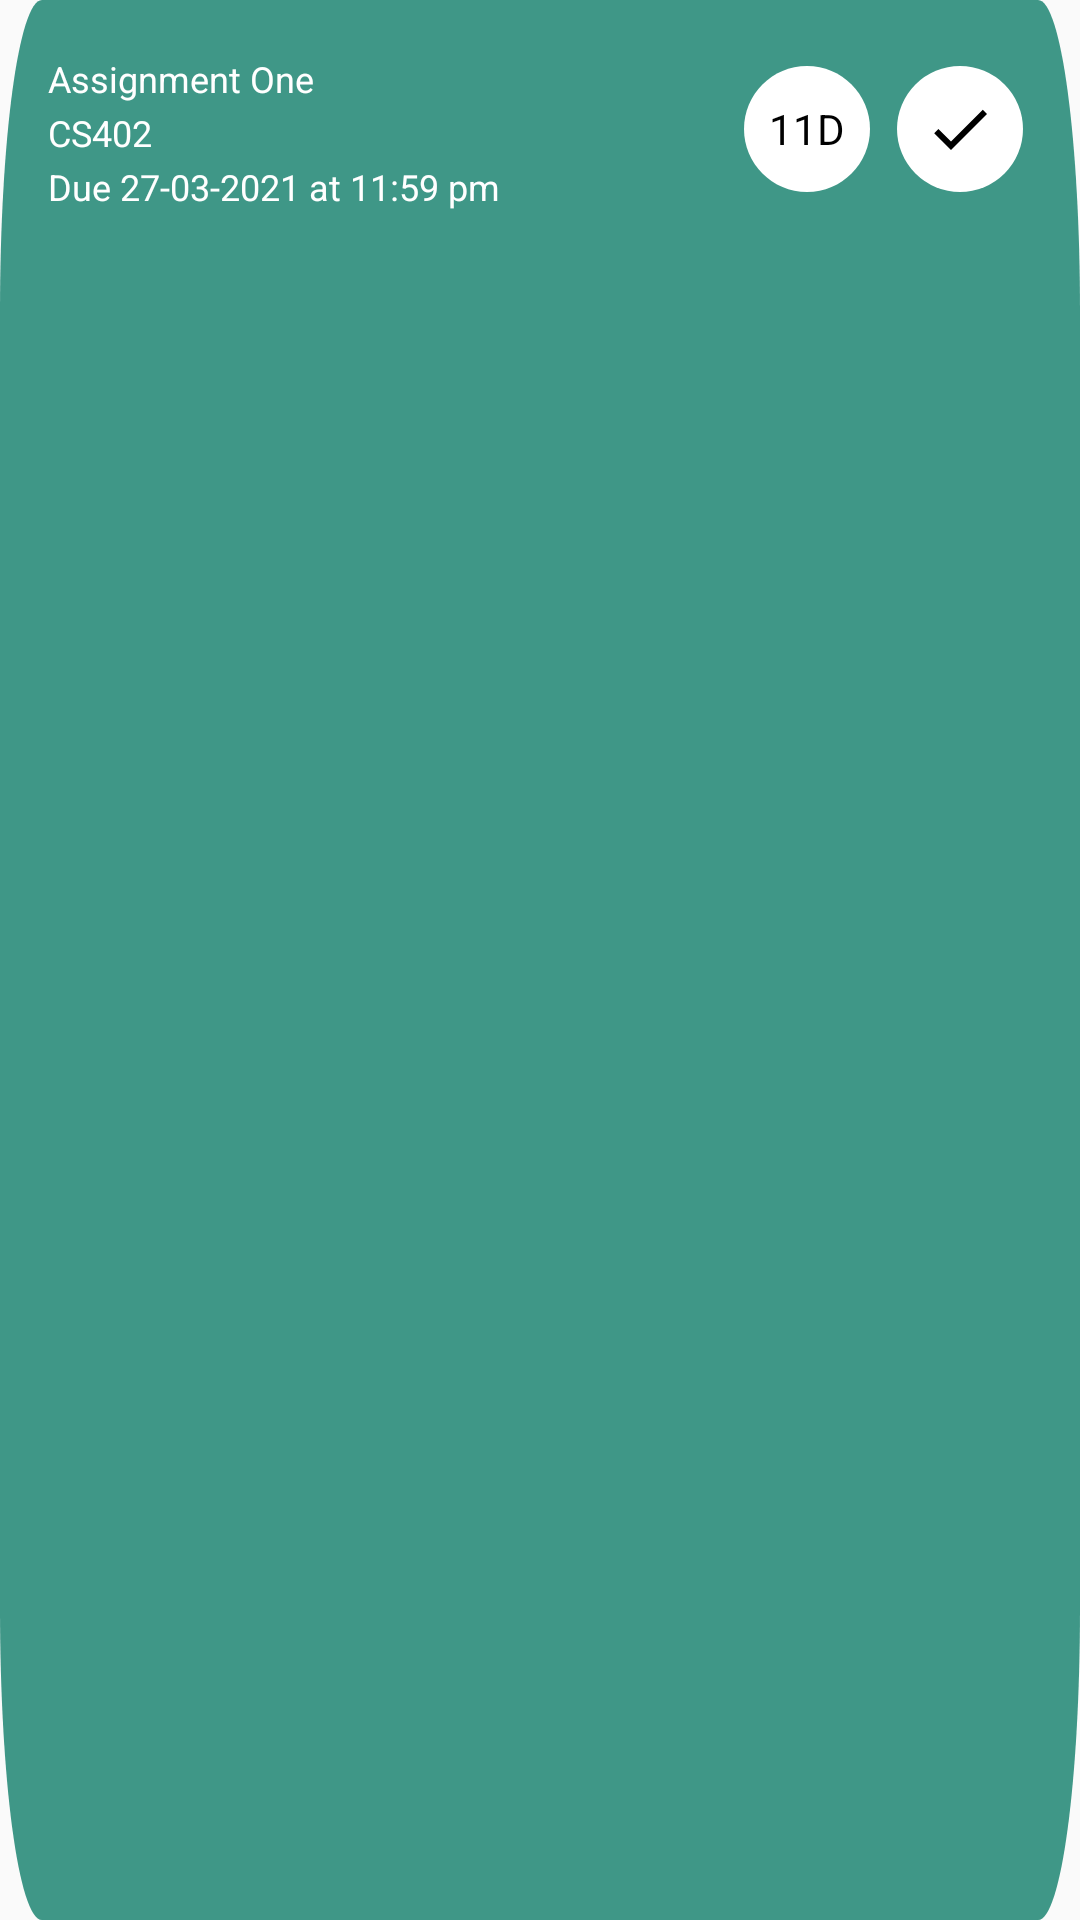

Icons on this 1080px x 1920px Android screen, each with its box as (x1, y1, x2, y2):
deadline done: (897, 66, 1023, 192)
